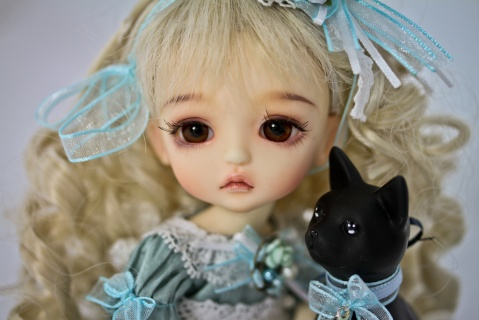Cat: (303, 146, 432, 319)
